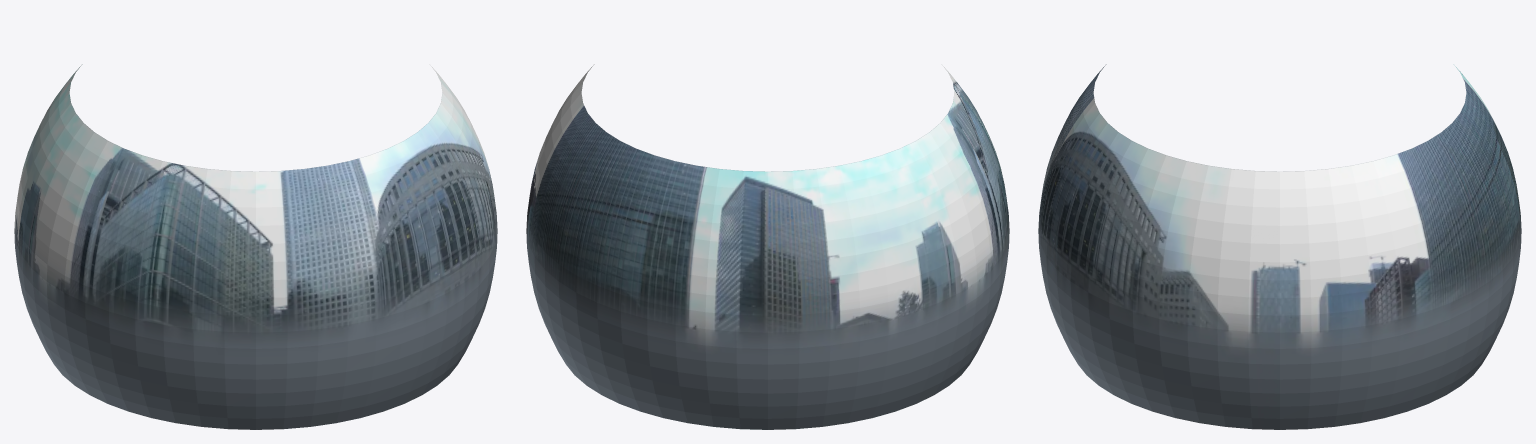
Rendered from office-light.fa526bd9.glb.
The picture shows the model from 3 angles, left to right: view 1: azimuth 30°, elevation 25°; view 2: azimuth 150°, elevation 25°; view 3: azimuth 270°, elevation 25°; orthographic projection.
Visible parts, largest first — view 1: exterior_city; view 2: exterior_city; view 3: exterior_city.
Part boxes in pixels (x1,y1,x2,y2): exterior_city: (14,64,497,429); exterior_city: (526,64,1009,429); exterior_city: (1038,64,1521,429).
Bounding box in the file's own units: 800 × 454 × 800.
81 materials, 39 textured.
